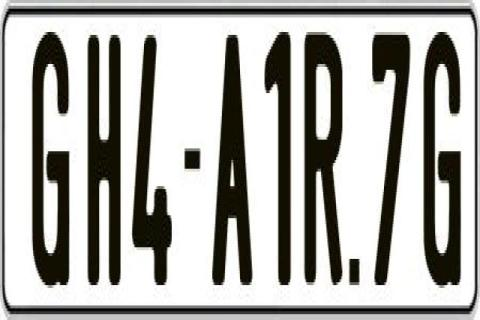0: (129, 35, 169, 299), (372, 32, 410, 300), (262, 24, 292, 282)
A: (210, 26, 252, 276)
G: (29, 29, 72, 294), (421, 29, 459, 297)
H: (85, 29, 123, 297)
R: (303, 32, 341, 288)
